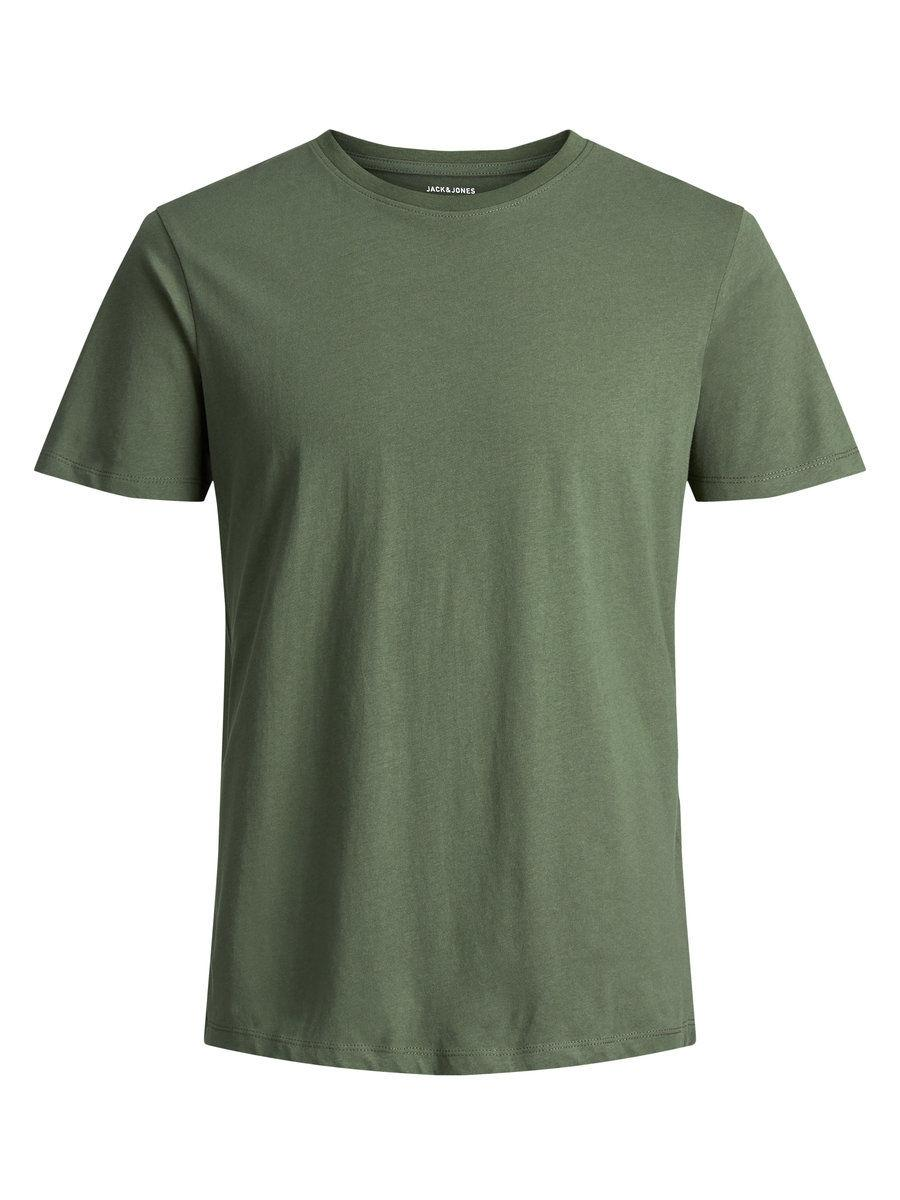teeshirt: (20, 105, 874, 1087)
